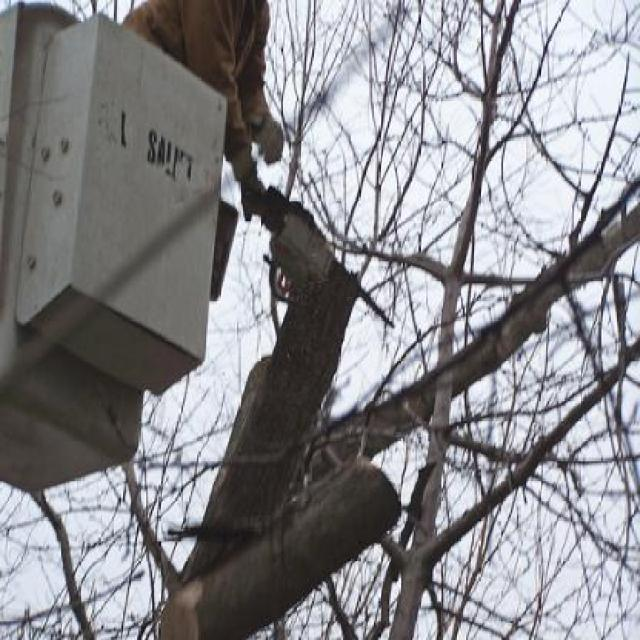Chainsaw: (256, 181, 395, 330)
